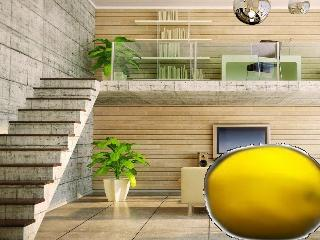lemon: (206, 145, 318, 238)
